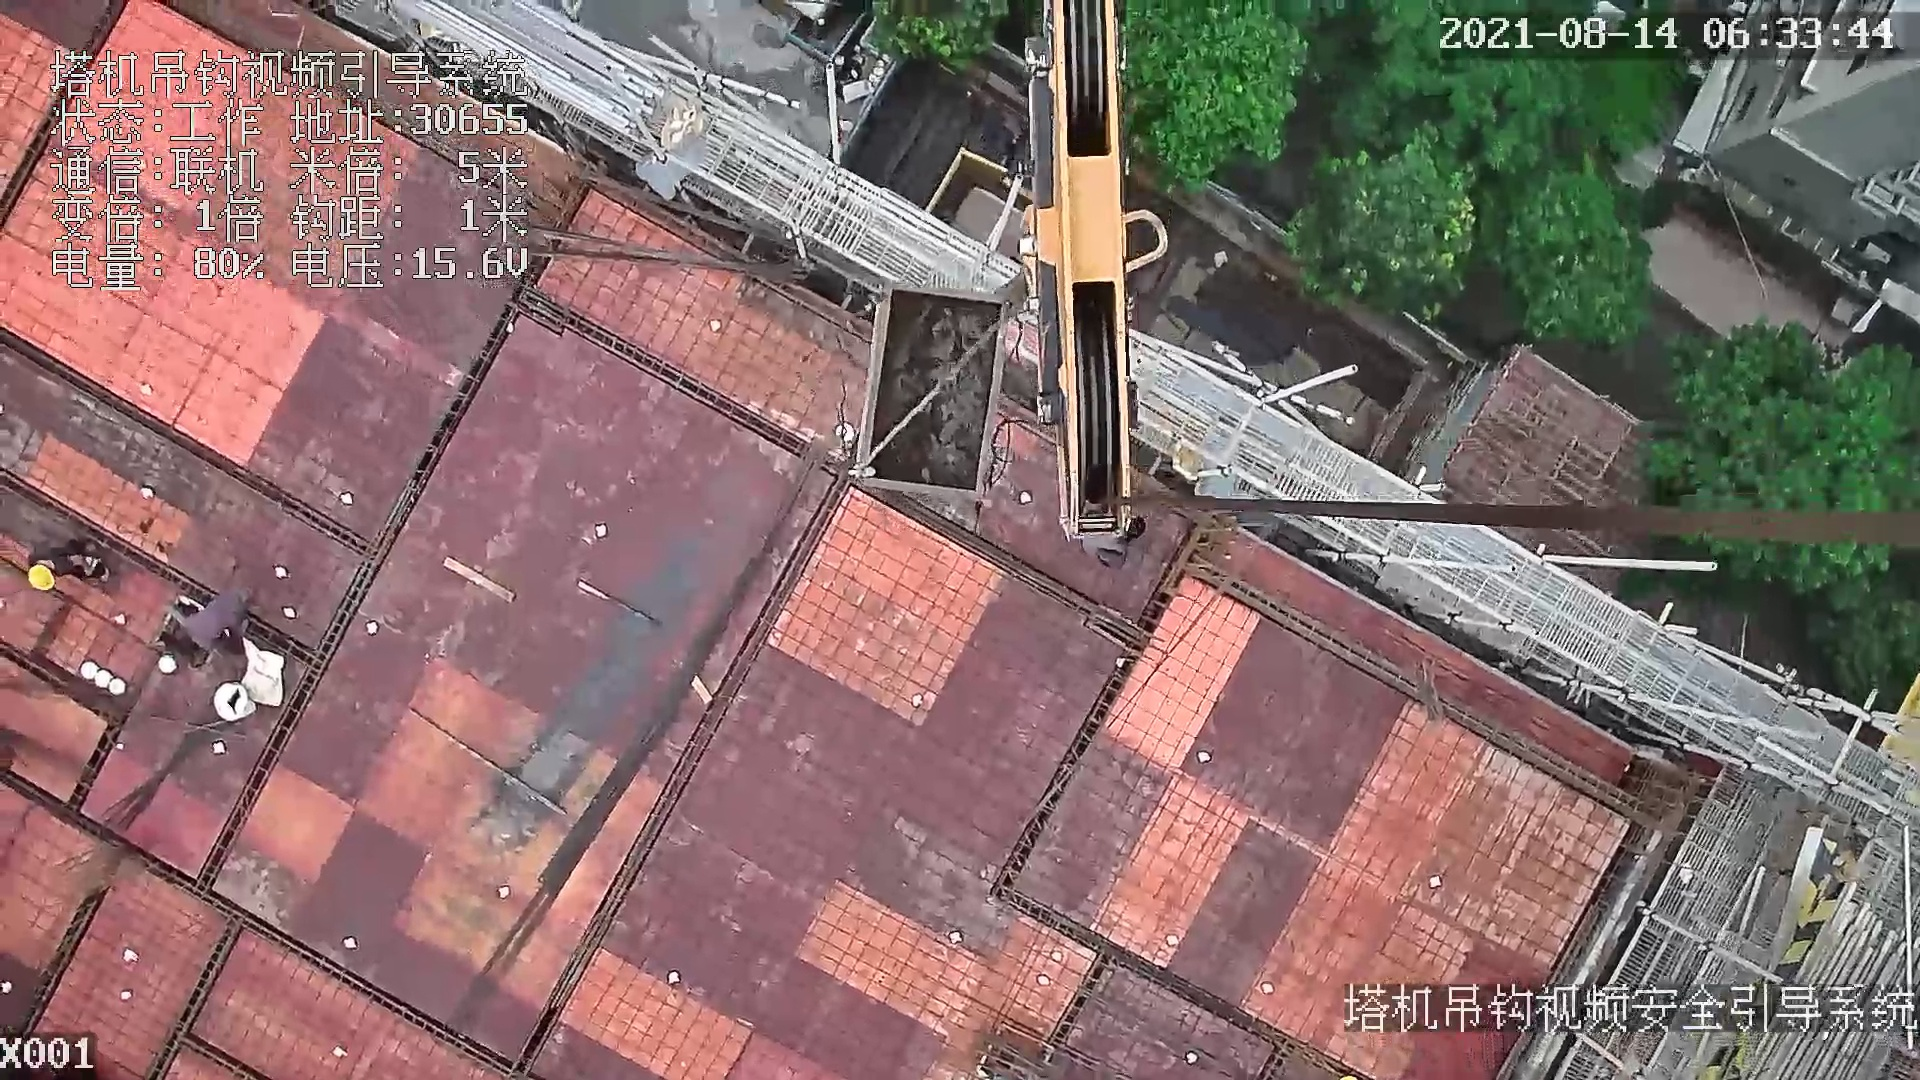helmet: (28, 564, 51, 595)
hook: (1014, 1, 1165, 533)
hopper: (859, 273, 1015, 514)
person: (150, 589, 276, 660), (8, 540, 110, 591)
